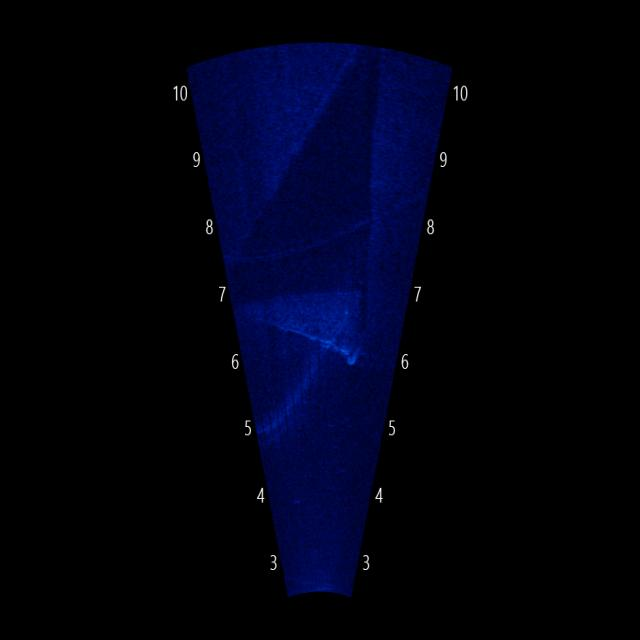triangle: (245, 261, 371, 376)
